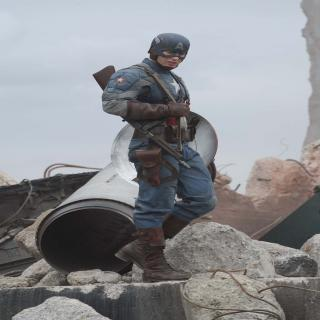gun: (82, 63, 194, 171)
